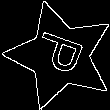P_E: (29, 29, 92, 82)
